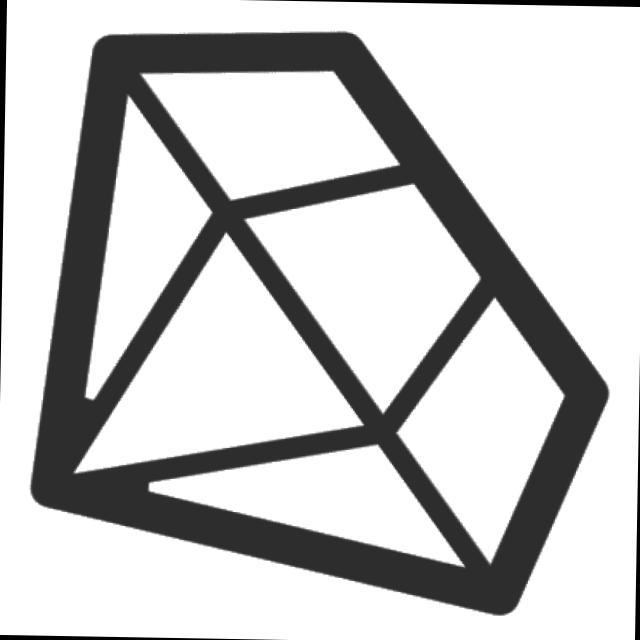diamond: (19, 17, 629, 629)
